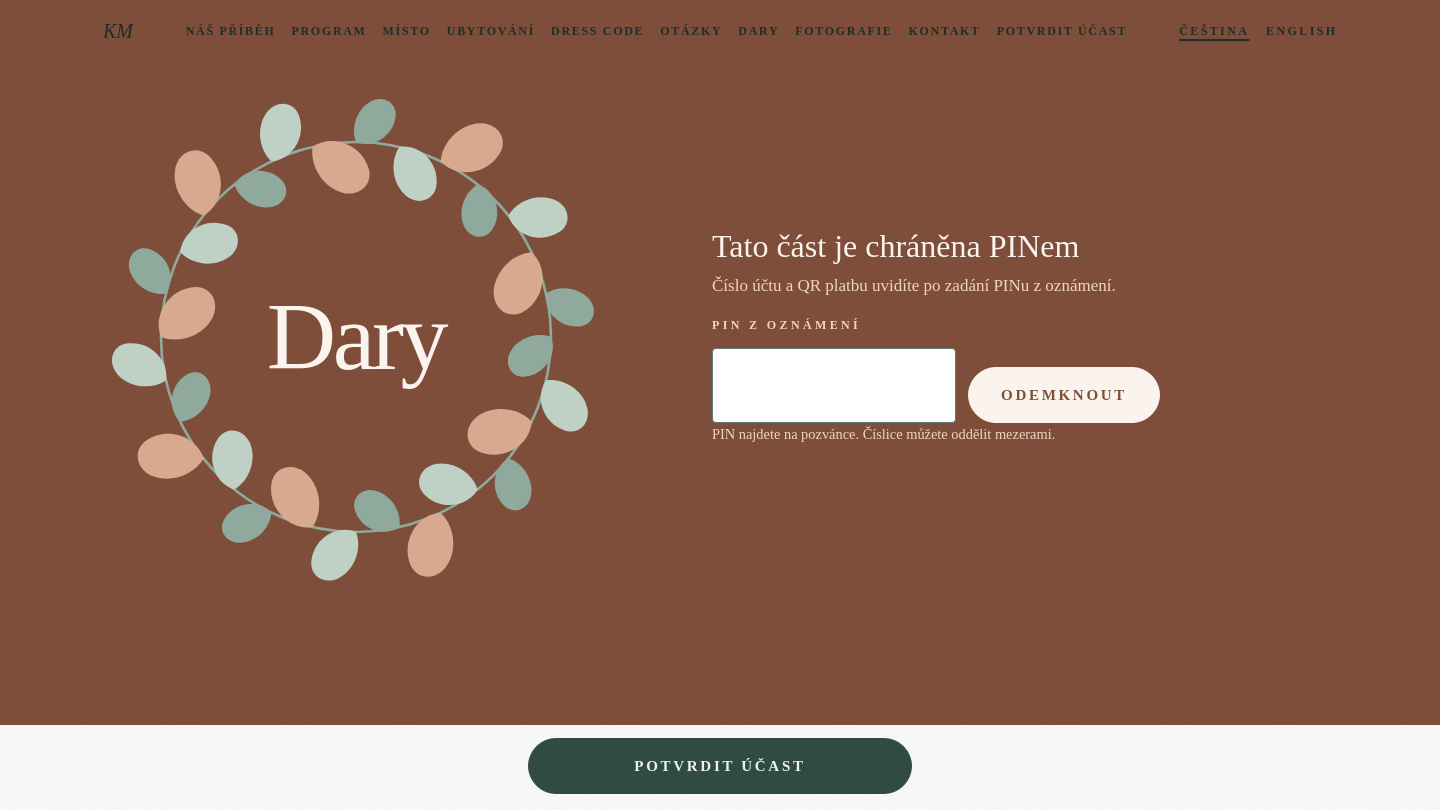
Scenario: SiteRenderer: dary za PINem (FR-PRIV-2) › pauza po chybách se ukáže slovy s délkou pauzy
This screenshot has width=1440, height=810.
(page scrolled)
Type "999999" into the password field labelled "PIN z oznámení". click: point(834, 386)
box: left=712, top=348, right=956, bottom=423
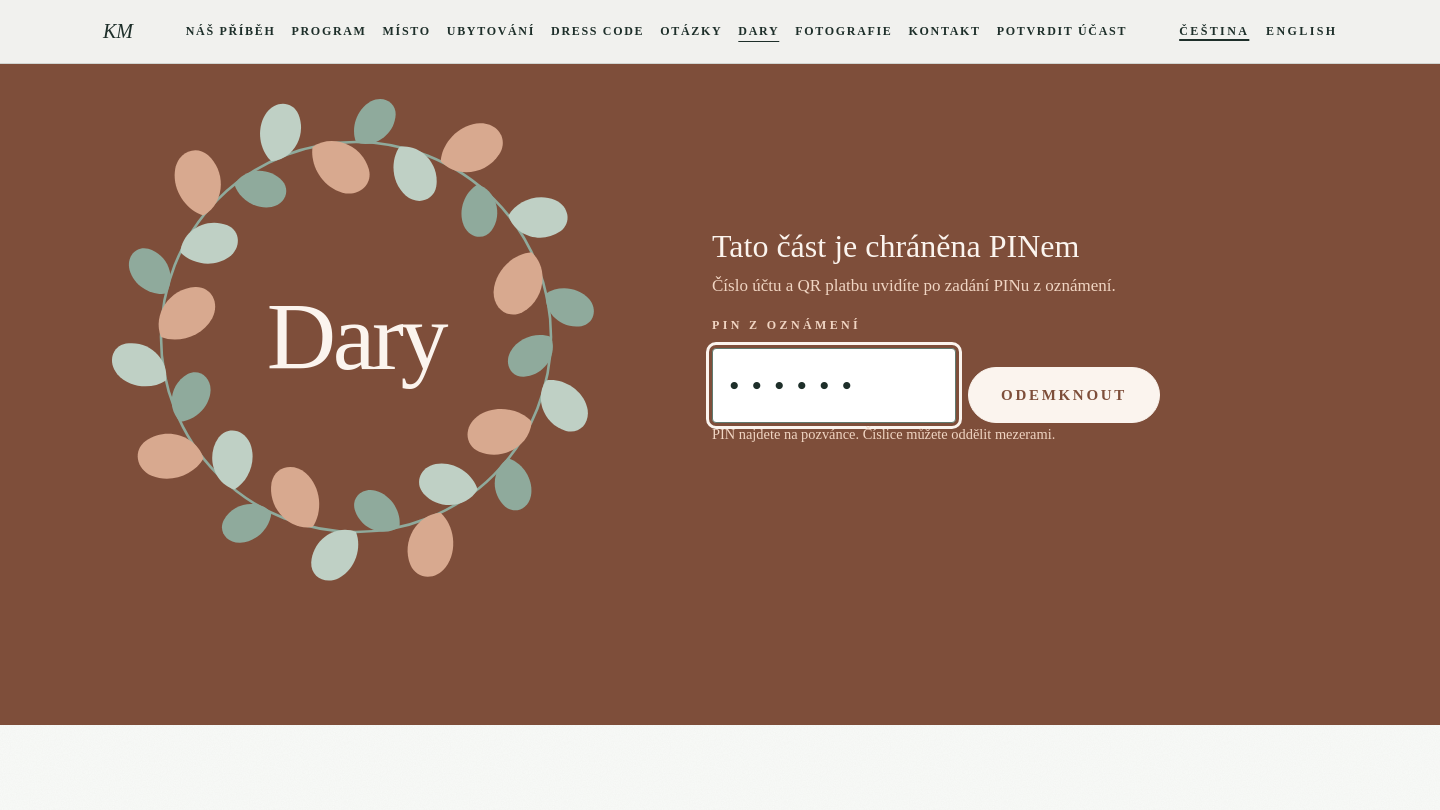
Click the button "Odemknout". click: point(1064, 395)
box: left=968, top=367, right=1160, bottom=423
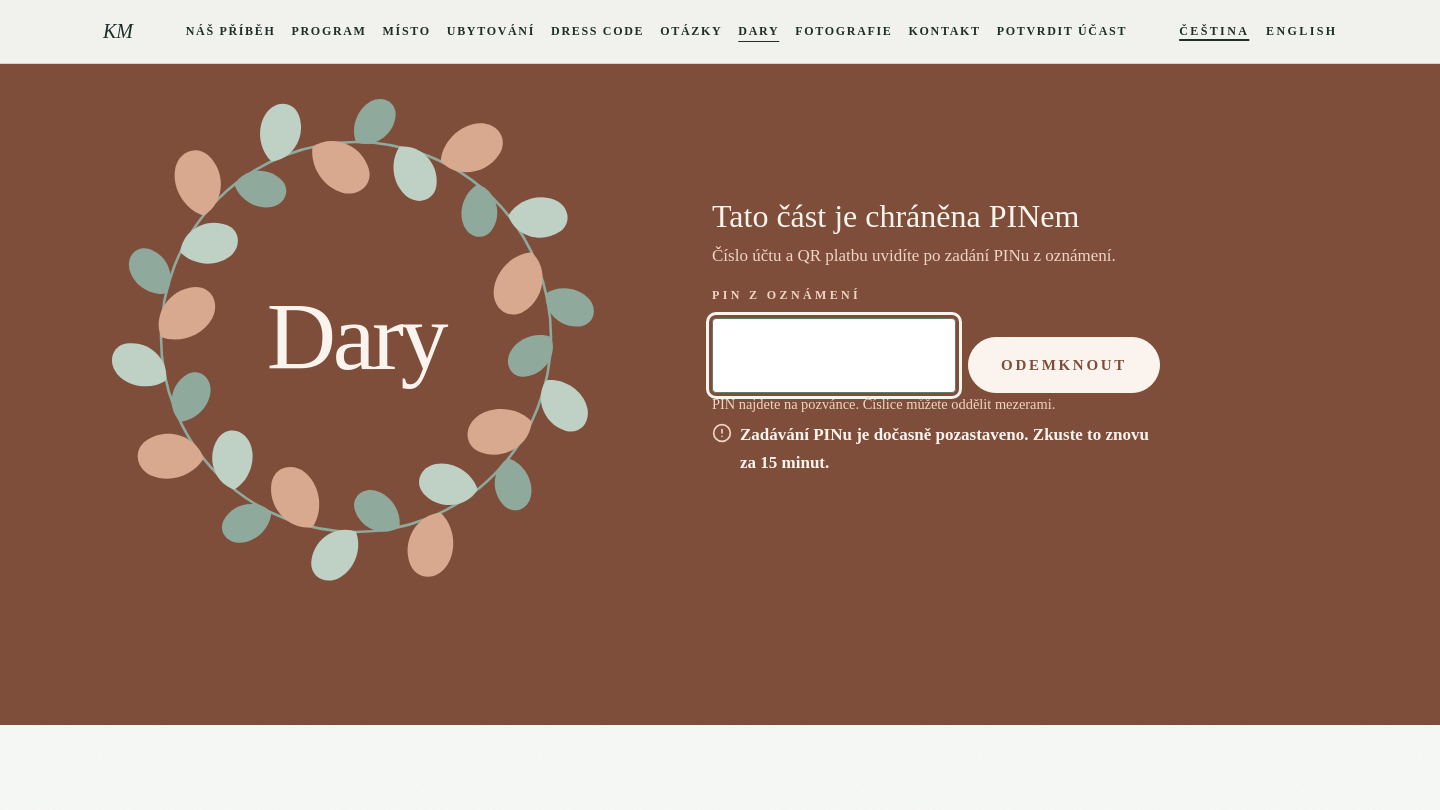
Expected: the text "pozastaveno. Zkuste to znovu za 15 minut" is shown, left=740, top=425, right=1149, bottom=472
